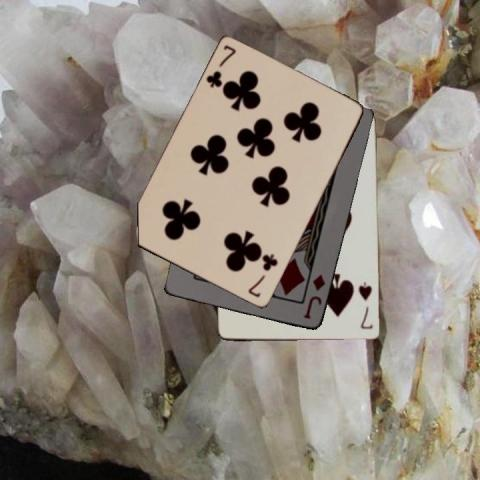7c: (246, 252, 280, 300), (203, 43, 237, 89)
7s: (356, 279, 375, 331)
Jd: (301, 271, 327, 321)
